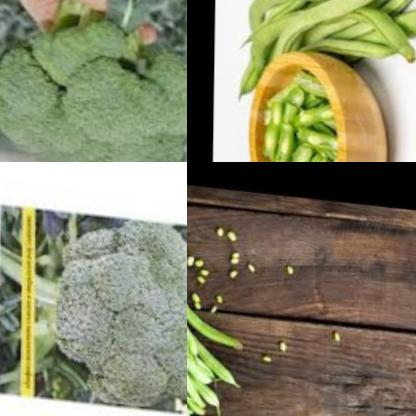beans: (230, 0, 416, 83), (187, 211, 243, 416), (246, 60, 341, 162), (187, 250, 210, 282), (227, 245, 242, 279), (210, 285, 224, 310), (284, 253, 297, 274), (331, 323, 344, 341), (247, 252, 257, 275), (257, 349, 276, 360), (193, 289, 204, 307), (226, 226, 238, 242), (280, 335, 292, 348), (215, 225, 224, 237)
broccoli: (53, 179, 187, 407), (0, 0, 187, 162)
